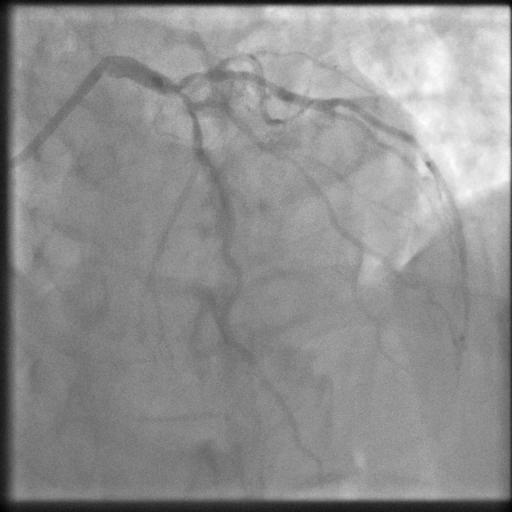Stenosis: (170, 83, 201, 119)
